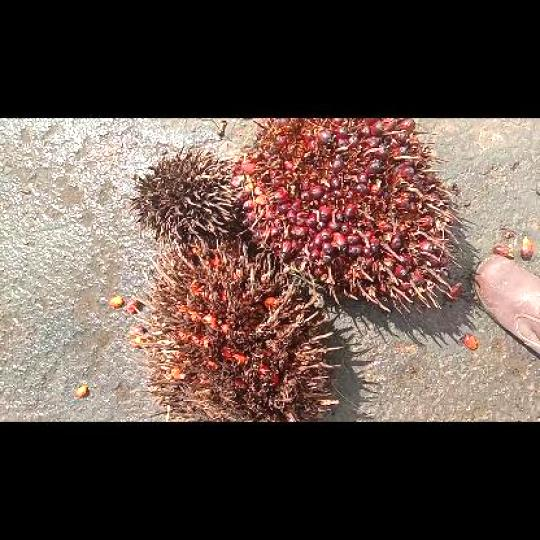masak: (231, 118, 462, 308)
terlalu masak: (130, 236, 342, 421)
